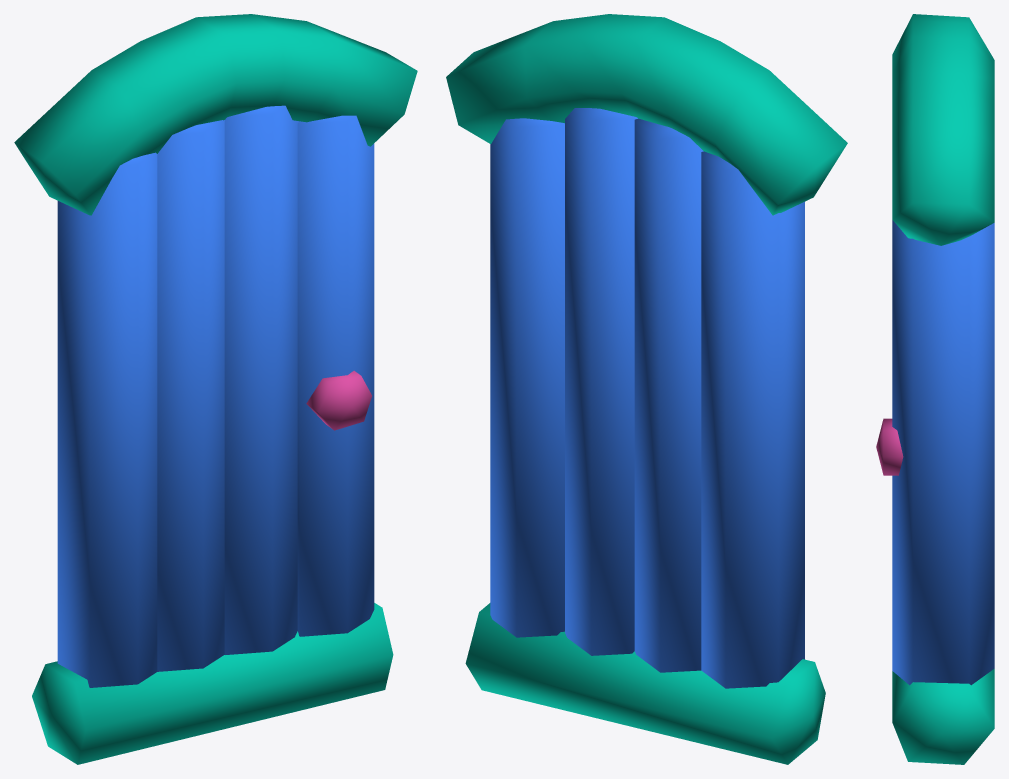
File: door_fake.glb
3 views of the same model, side by side, from view 1: azimuth 30°, elevation 25°; view 2: azimuth 150°, elevation 25°; view 3: azimuth 270°, elevation 25° (orthographic). The views are drawn at different scales.
Parts seen in each view (by area): view 1: Cylinder.149, Cylinder.402, Cylinder.148, Cylinder.403, Cylinder.166, Cylinder.147, Cylinder.404; view 2: Cylinder.149, Cylinder.148, Cylinder.403, Cylinder.402, Cylinder.166, Cylinder.147; view 3: Cylinder.403, Cylinder.148, Cylinder.147, Cylinder.404.
Part boxes in pixels (x1,y1,x2,y2): Cylinder.149: (57, 152, 157, 687); Cylinder.402: (224, 105, 298, 654); Cylinder.148: (14, 14, 417, 215); Cylinder.403: (297, 115, 374, 636); Cylinder.166: (157, 120, 224, 671); Cylinder.147: (32, 603, 393, 764); Cylinder.404: (306, 370, 371, 430); Cylinder.149: (701, 151, 804, 688); Cylinder.148: (446, 14, 847, 215); Cylinder.403: (490, 118, 564, 637); Cylinder.402: (565, 108, 637, 655); Cylinder.166: (634, 118, 703, 672); Cylinder.147: (465, 603, 825, 764); Cylinder.403: (892, 220, 994, 685); Cylinder.148: (892, 14, 994, 245); Cylinder.147: (892, 669, 994, 764); Cylinder.404: (876, 418, 903, 475).
Size of what is drawn, in the model's own units: 1.83 by 3.23 by 0.5293.
1 material, 1 textured.
